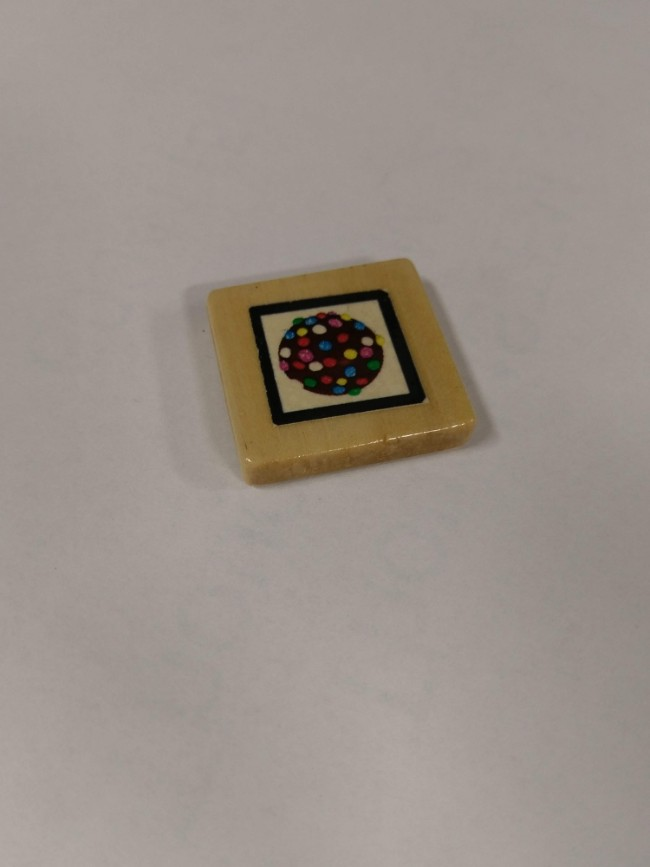cookie: (251, 298, 426, 422)
